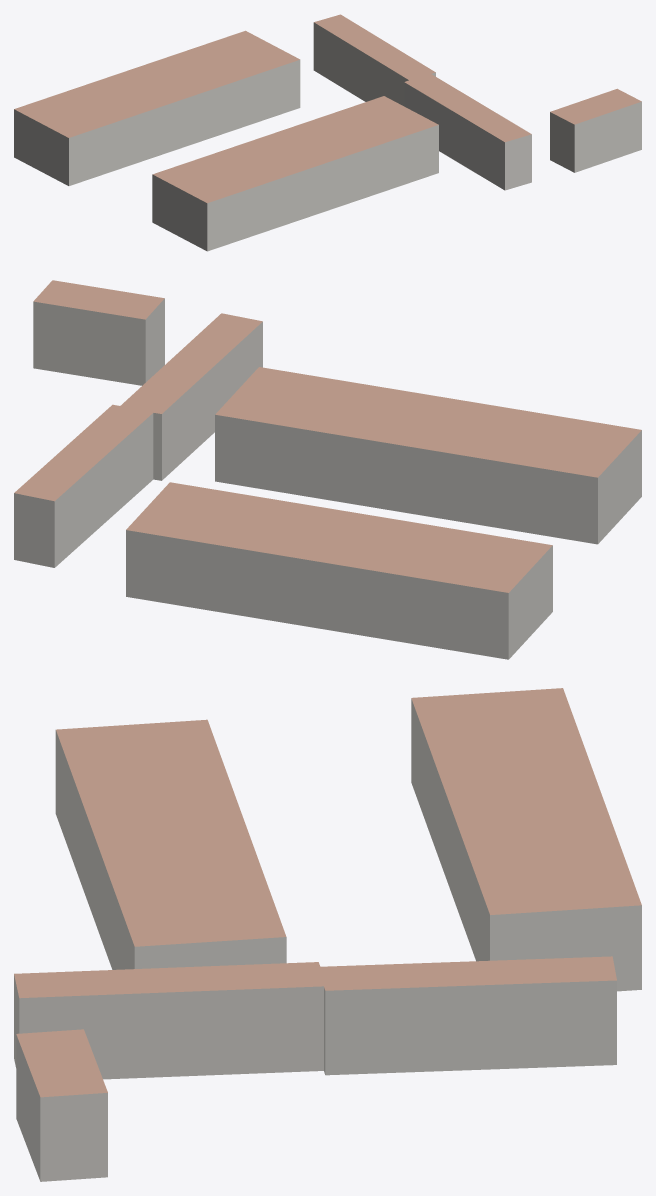
File: gridID_2.dae
3 renders of one model, top to bottom at view 1: azimuth 30°, elevation 25°; view 2: azimuth 150°, elevation 25°; view 3: azimuth 270°, elevation 25°, orthographic. The views are drawn at different scales.
Visible parts, largest first — view 1: model_gridID_2_w389865173, model_gridID_2_w389865171, model_gridID_2_w389865178_001, model_gridID_2_w389865178, model_gridID_2_w389865170; view 2: model_gridID_2_w389865171, model_gridID_2_w389865173, model_gridID_2_w389865178, model_gridID_2_w389865170, model_gridID_2_w389865178_001; view 3: model_gridID_2_w389865173, model_gridID_2_w389865171, model_gridID_2_w389865178, model_gridID_2_w389865178_001, model_gridID_2_w389865170.
Boxes of the visible parts, x1=… form: model_gridID_2_w389865173: x1=14, y1=30, x2=300, y2=185; model_gridID_2_w389865171: x1=152, y1=96, x2=438, y2=251; model_gridID_2_w389865178_001: x1=404, y1=74, x2=531, y2=190; model_gridID_2_w389865178: x1=313, y1=14, x2=435, y2=105; model_gridID_2_w389865170: x1=550, y1=88, x2=641, y2=172; model_gridID_2_w389865171: x1=215, y1=367, x2=641, y2=544; model_gridID_2_w389865173: x1=126, y1=482, x2=552, y2=659; model_gridID_2_w389865178: x1=14, y1=404, x2=153, y2=567; model_gridID_2_w389865170: x1=33, y1=280, x2=164, y2=385; model_gridID_2_w389865178_001: x1=120, y1=313, x2=262, y2=480; model_gridID_2_w389865173: x1=411, y1=688, x2=641, y2=991; model_gridID_2_w389865171: x1=55, y1=719, x2=286, y2=969; model_gridID_2_w389865178: x1=320, y1=956, x2=616, y2=1075; model_gridID_2_w389865178_001: x1=14, y1=962, x2=323, y2=1079; model_gridID_2_w389865170: x1=16, y1=1029, x2=107, y2=1181.
Size of the model in its own units: 77.89 by 50.5 by 7.5.
